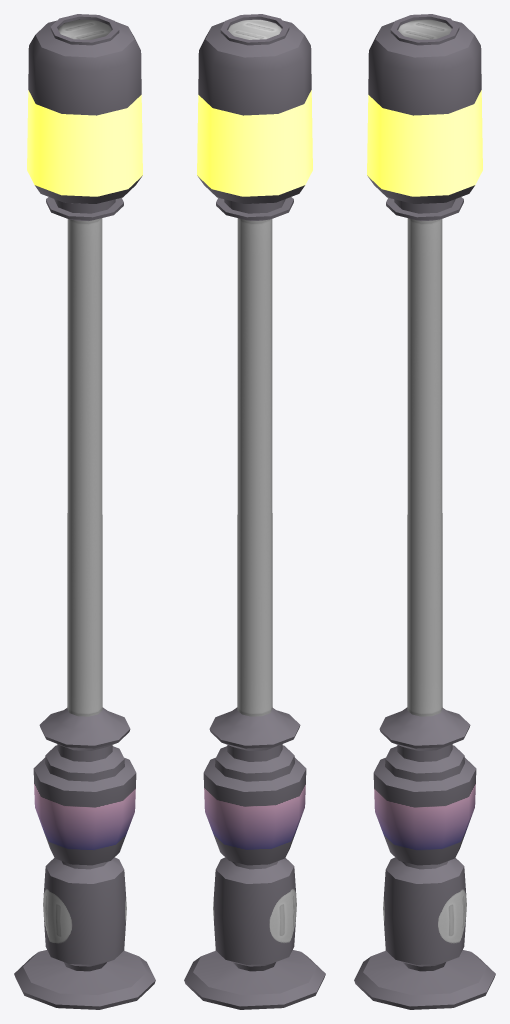
Rendered from lamppost.glb.
The picture shows the model from 3 angles, left to right: view 1: azimuth 30°, elevation 25°; view 2: azimuth 150°, elevation 25°; view 3: azimuth 330°, elevation 25°; orthographic projection.
Parts seen in each view (by area): view 1: Lamp_LOD0.001; view 2: Lamp_LOD0.001; view 3: Lamp_LOD0.001.
Boxes of the visible parts, x1,y1,x2,y2 form: Lamp_LOD0.001: [14, 14, 155, 1009]; Lamp_LOD0.001: [184, 14, 325, 1009]; Lamp_LOD0.001: [354, 14, 495, 1009].
Bounding box in the file's own units: 0.7124 × 5.25 × 0.6775.
Materials: 2 (1 with a texture image).
